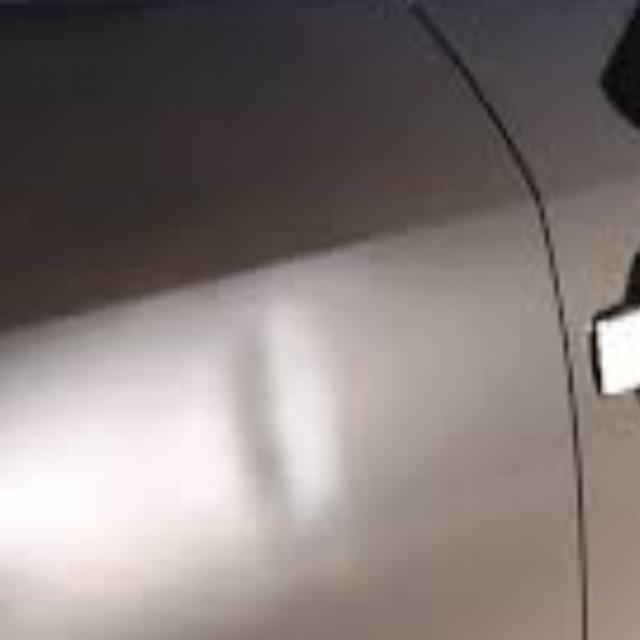dents: (215, 309, 402, 569)
